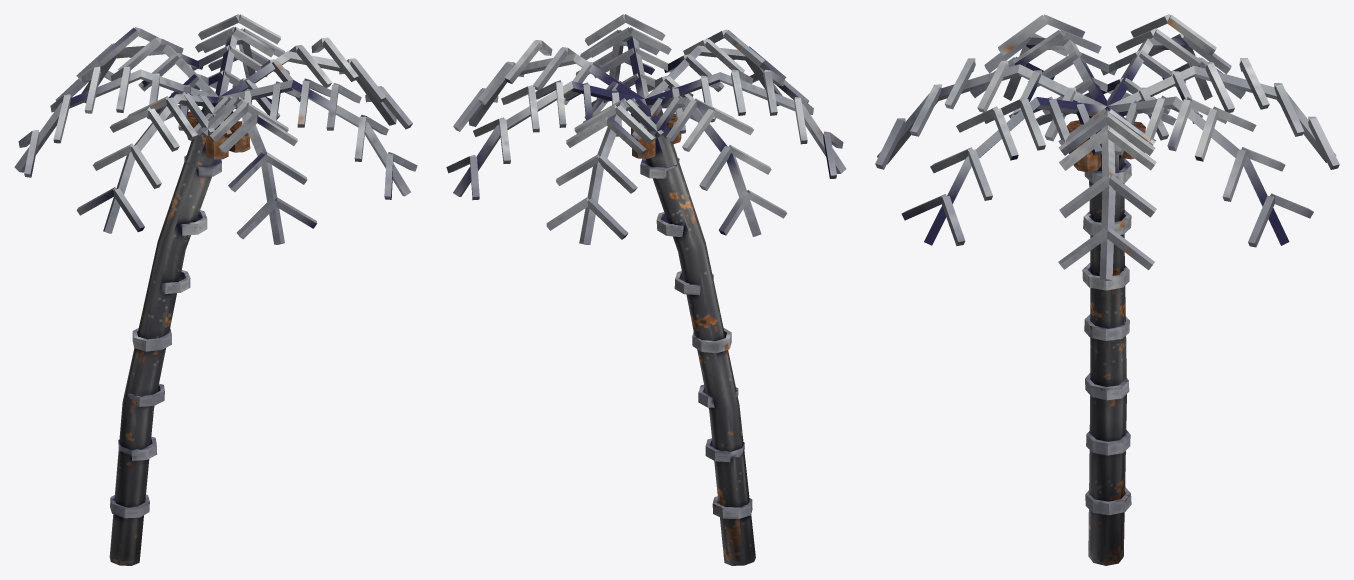
Rendered from ScrapPalm.glb.
The picture shows the model from 3 angles, left to right: view 1: azimuth 30°, elevation 25°; view 2: azimuth 150°, elevation 25°; view 3: azimuth 270°, elevation 25°; orthographic projection. The views are drawn at different scales.
Parts seen in each view (by area): view 1: Fronds, Trunk, Couplings, Cans; view 2: Fronds, Trunk, Couplings, Cans; view 3: Fronds, Trunk, Couplings, Cans.
Part boxes in pixels (x1,y1,x2,y2): Fronds: [14, 14, 417, 244]; Trunk: [109, 107, 233, 565]; Couplings: [110, 155, 221, 518]; Cans: [187, 110, 250, 159]; Fronds: [446, 14, 846, 244]; Trunk: [630, 109, 755, 565]; Couplings: [640, 158, 752, 518]; Cans: [631, 113, 681, 158]; Fronds: [875, 14, 1339, 280]; Trunk: [1088, 116, 1126, 565]; Couplings: [1082, 158, 1131, 515]; Cans: [1067, 120, 1145, 172].
Bounding box in the file's own units: 7.19 × 9.4 × 7.3.
4 materials, 4 textured.
